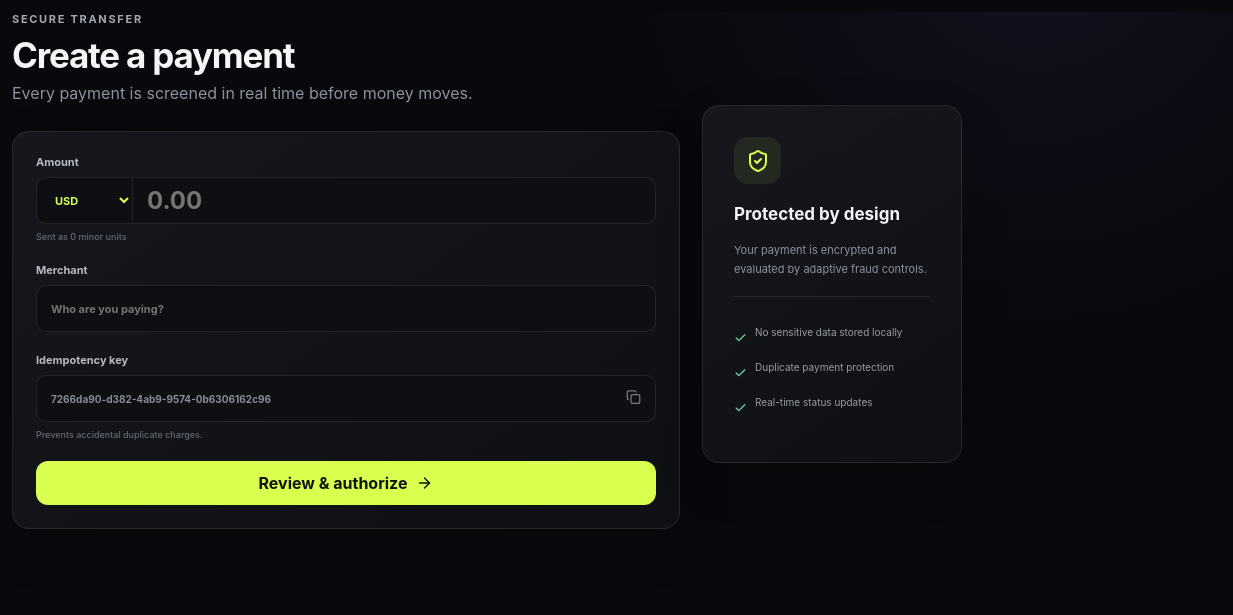
Test: payment flow › keeps the form and reports an authorization failure
The width and height of the screenshot is (1233, 615).
Type "10.00" into the field named "Payment amount" at coordinates (394, 200), box [132,177,656,224]
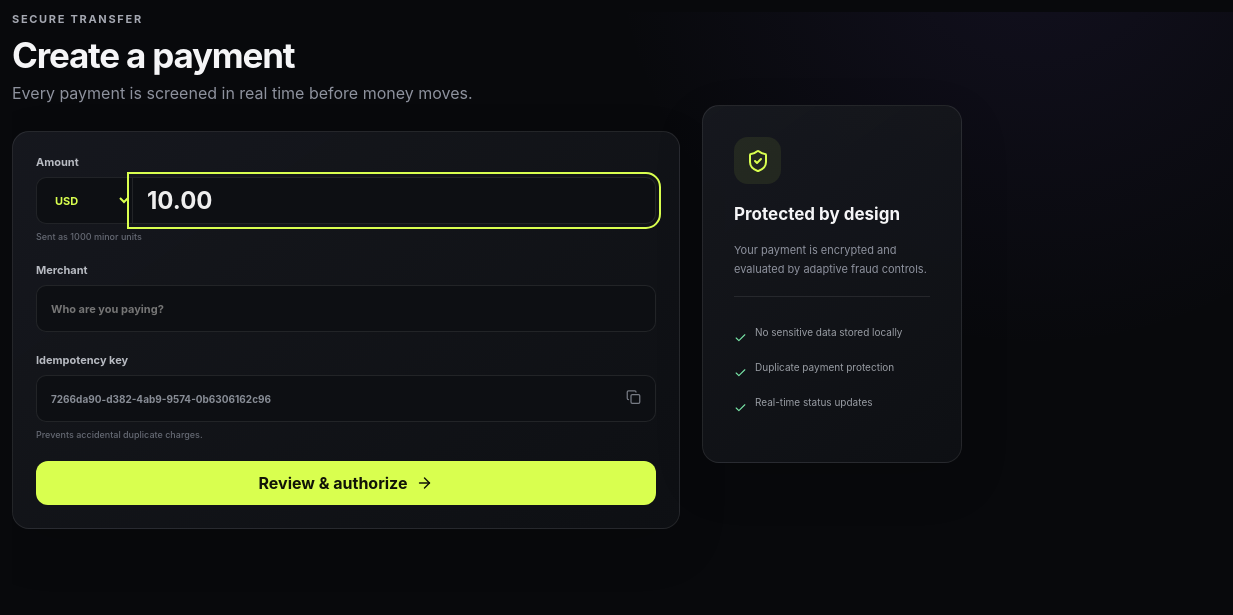
Type "Lumen Market" into the field with placeholder "Who are you paying?" at coordinates (346, 308), box [36,285,656,332]
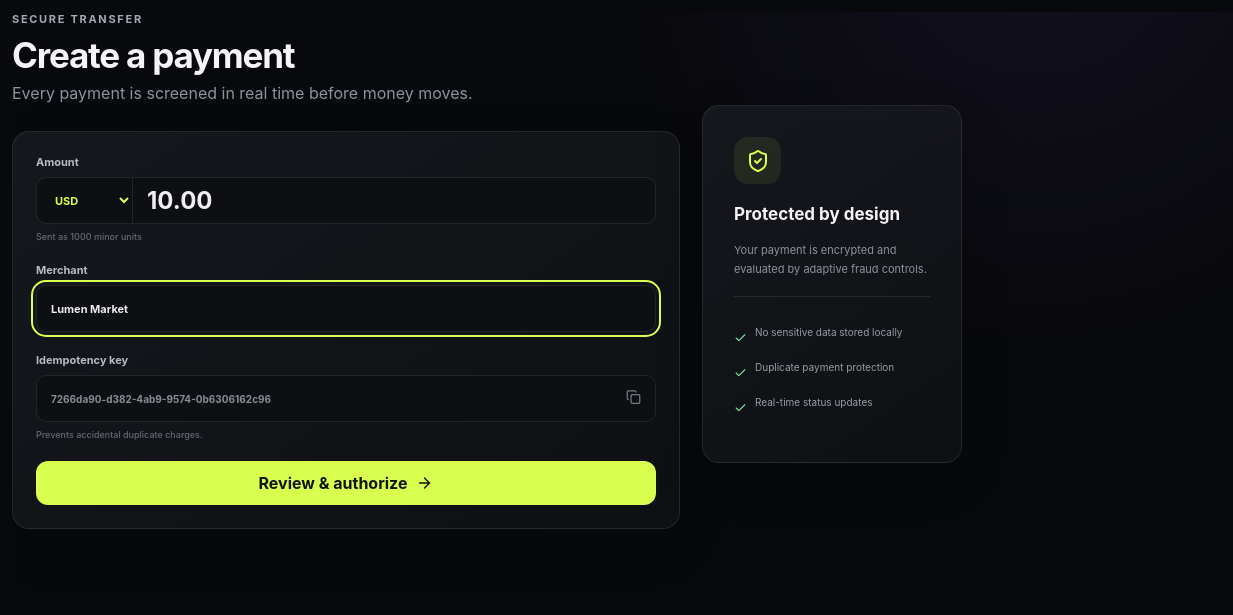
Click the button "Review & authorize" at coordinates (346, 483), box [36,461,656,505]
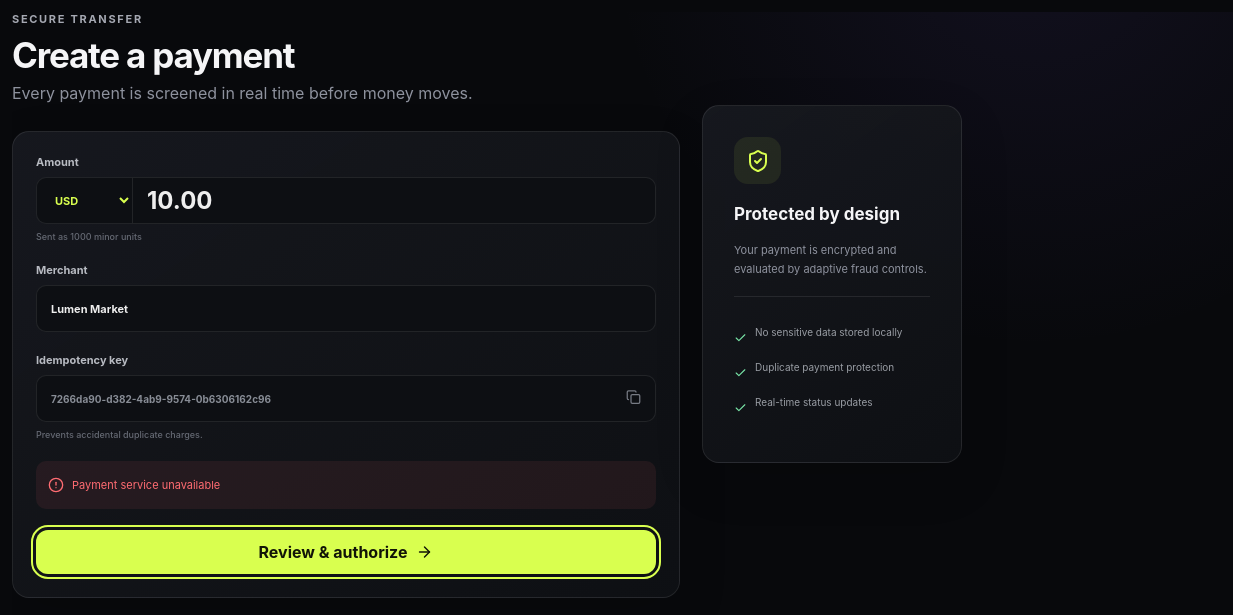
Check: the text "Payment service unavailable" is shown, box [36,461,656,509]
